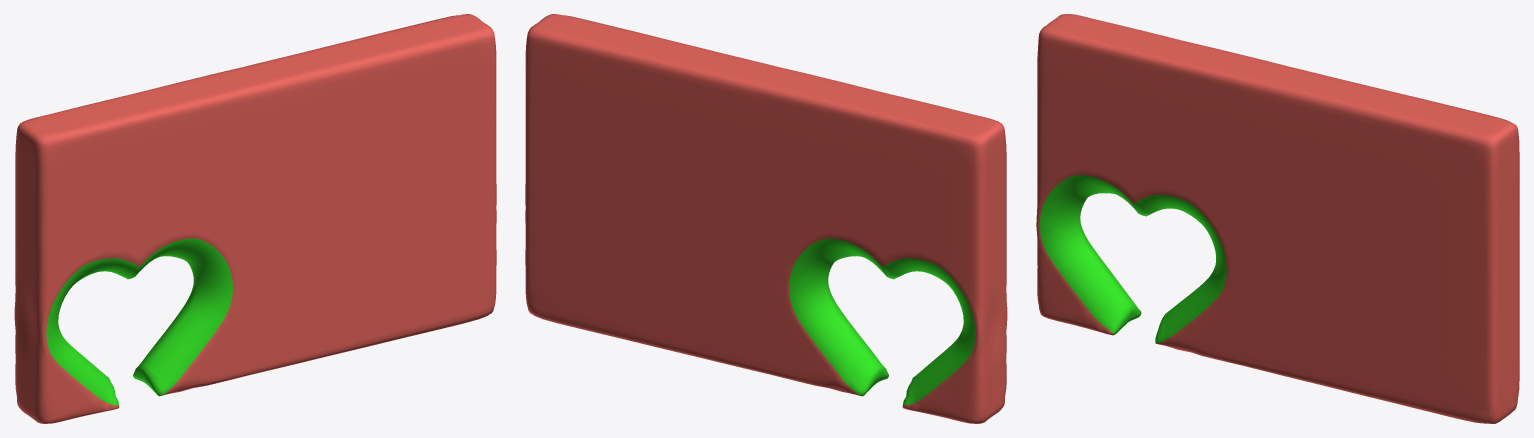
Rendered from RemeshTest.fbx.
3 renders of one model, left to right at view 1: azimuth 30°, elevation 25°; view 2: azimuth 150°, elevation 25°; view 3: azimuth 330°, elevation 25°, orthographic.
Parts seen in each view (by area): view 1: Retopo_oobst1; view 2: Retopo_oobst1; view 3: Retopo_oobst1.
Boxes of the visible parts, left/top/right/bottom form: Retopo_oobst1: left=14, top=14, right=496, bottom=423; Retopo_oobst1: left=525, top=14, right=1007, bottom=423; Retopo_oobst1: left=1036, top=14, right=1519, bottom=423.
Size of the model in its own units: 1007 by 605 by 112.
